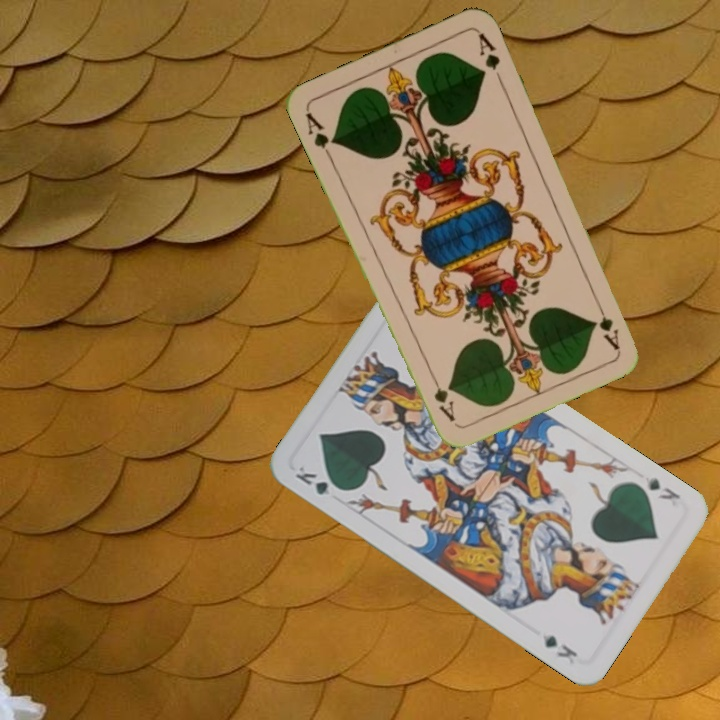GA: (301, 108, 339, 163), (591, 295, 622, 352)
GK: (291, 462, 347, 498), (644, 473, 684, 503)
